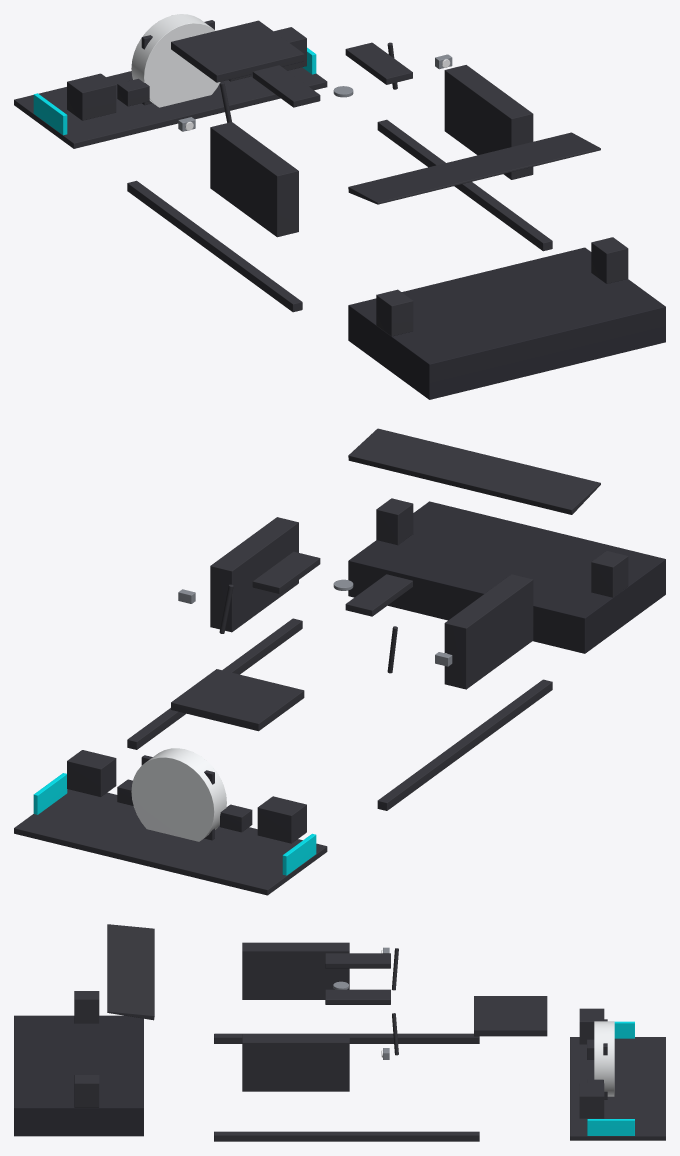
Rendered from exterior_panels.glb.
The picture shows the model from 3 angles, top to bottom: view 1: azimuth 30°, elevation 25°; view 2: azimuth 150°, elevation 25°; view 3: azimuth 270°, elevation 25°; orthographic projection. The views are drawn at different scales.
Parts seen in each view (by area): view 1: AERO_Rear_Venturi_Diffuser_Assembly, BODY_Side_Intercooler_Air_Scoop_R, AERO_Front_Carbon_Splitter_Tray, BODY_Side_Intercooler_Air_Scoop_L, AERO_Active_Rear_Wing_MainPlane, BODY_Front_Hood_Air_Extractor_Vent, BODY_Bugatti_Horseshoe_Grille_Bezel, AERO_Side_Rocker_Skirt_R, AERO_Side_Rocker_Skirt_L, AERO_Front_Brake_Air_Curtain_R, BODY_Roof_NACA_Air_Scoop_R, BODY_Roof_NACA_Air_Scoop_L (+5 smaller); view 2: AERO_Rear_Venturi_Diffuser_Assembly, AERO_Front_Carbon_Splitter_Tray, AERO_Active_Rear_Wing_MainPlane, BODY_Side_Intercooler_Air_Scoop_R, BODY_Bugatti_Horseshoe_Grille_Bezel, BODY_Side_Intercooler_Air_Scoop_L, BODY_Front_Hood_Air_Extractor_Vent, AERO_Side_Rocker_Skirt_R, AERO_Side_Rocker_Skirt_L, AERO_Front_Brake_Air_Curtain_R, AERO_Front_Brake_Air_Curtain_L, BODY_Roof_NACA_Air_Scoop_L (+6 smaller); view 3: AERO_Rear_Venturi_Diffuser_Assembly, AERO_Front_Carbon_Splitter_Tray, BODY_Side_Intercooler_Air_Scoop_L, BODY_Side_Intercooler_Air_Scoop_R, AERO_Active_Rear_Wing_MainPlane, BODY_Front_Hood_Air_Extractor_Vent, AERO_Side_Rocker_Skirt_L, AERO_Side_Rocker_Skirt_R, BODY_Bugatti_Horseshoe_Grille_Bezel, BODY_Roof_NACA_Air_Scoop_L, BODY_Roof_NACA_Air_Scoop_R, AERO_Front_Brake_Air_Curtain_L (+5 smaller).
Part boxes in pixels (x1,y1,x2,y2): AERO_Rear_Venturi_Diffuser_Assembly: (348,247,665,399); BODY_Side_Intercooler_Air_Scoop_R: (210,122,298,237); AERO_Front_Carbon_Splitter_Tray: (14,67,327,148); BODY_Side_Intercooler_Air_Scoop_L: (444,65,533,179); AERO_Active_Rear_Wing_MainPlane: (348,132,600,204); BODY_Front_Hood_Air_Extractor_Vent: (171,20,304,82); BODY_Bugatti_Horseshoe_Grille_Bezel: (131,14,220,107); AERO_Side_Rocker_Skirt_R: (127,180,302,312); AERO_Side_Rocker_Skirt_L: (377,119,552,251); AERO_Front_Brake_Air_Curtain_R: (67,73,116,120); BODY_Roof_NACA_Air_Scoop_R: (252,65,320,107); BODY_Roof_NACA_Air_Scoop_L: (345,42,412,84); AERO_Rear_Venturi_Diffuser_Assembly: (348,501,665,653); AERO_Front_Carbon_Splitter_Tray: (14,789,327,895); AERO_Active_Rear_Wing_MainPlane: (348,428,600,514); BODY_Side_Intercooler_Air_Scoop_R: (444,574,533,689); BODY_Bugatti_Horseshoe_Grille_Bezel: (131,748,226,841); BODY_Side_Intercooler_Air_Scoop_L: (210,517,298,632); BODY_Front_Hood_Air_Extractor_Vent: (171,669,304,731); AERO_Side_Rocker_Skirt_R: (377,679,552,810); AERO_Side_Rocker_Skirt_L: (127,618,302,749); AERO_Front_Brake_Air_Curtain_R: (257,796,306,843); AERO_Front_Brake_Air_Curtain_L: (67,750,116,796); BODY_Roof_NACA_Air_Scoop_L: (252,551,320,593); AERO_Rear_Venturi_Diffuser_Assembly: (14,1015,143,1136); AERO_Front_Carbon_Splitter_Tray: (570,1037,665,1140); BODY_Side_Intercooler_Air_Scoop_L: (242,1034,349,1091); BODY_Side_Intercooler_Air_Scoop_R: (242,942,349,999); AERO_Active_Rear_Wing_MainPlane: (107,924,154,1020); BODY_Front_Hood_Air_Extractor_Vent: (474,996,547,1036); AERO_Side_Rocker_Skirt_L: (214,1131,479,1141); AERO_Side_Rocker_Skirt_R: (214,1033,479,1043); BODY_Bugatti_Horseshoe_Grille_Bezel: (594,1021,614,1096); BODY_Roof_NACA_Air_Scoop_L: (325,989,390,1004); BODY_Roof_NACA_Air_Scoop_R: (325,953,390,968); AERO_Front_Brake_Air_Curtain_L: (579,1083,604,1118).
Size of the model in its own units: 2.21 by 1.24 by 5.77.
